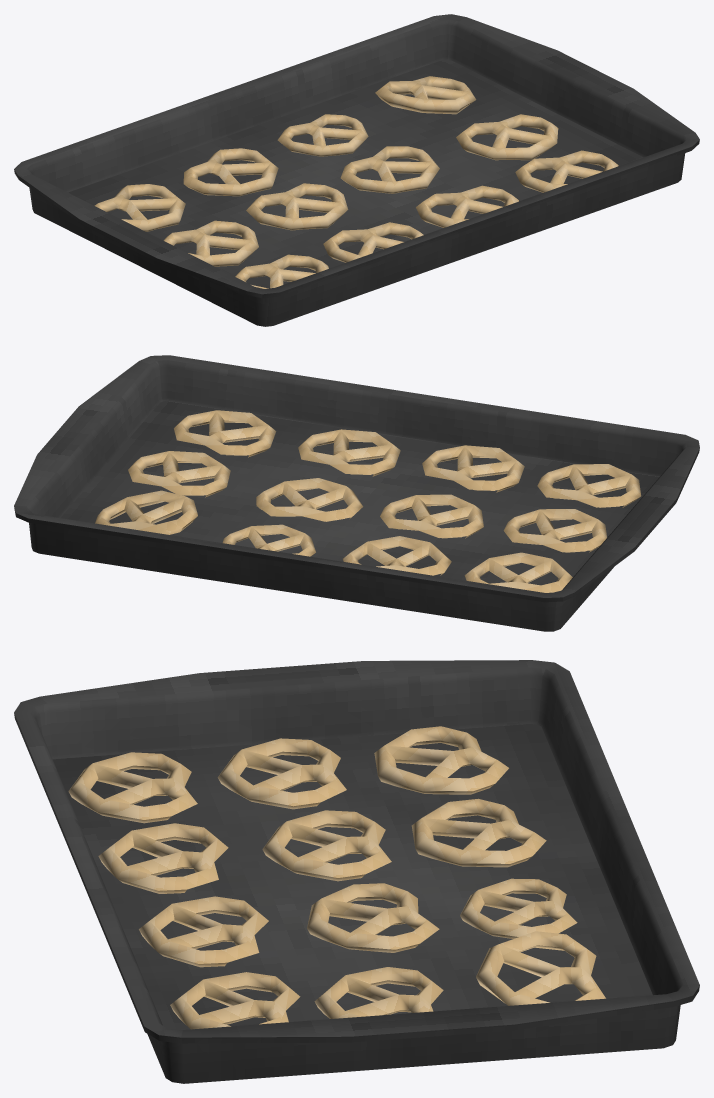
File: BakingTrayPretzel.fbx
3 renders of one model, top to bottom at view 1: azimuth 30°, elevation 25°; view 2: azimuth 150°, elevation 25°; view 3: azimuth 270°, elevation 25°, orthographic. The views are drawn at different scales.
Visible parts, largest first — view 1: TrayCremePretzel; view 2: TrayCremePretzel; view 3: TrayCremePretzel.
Boxes of the visible parts, x1,y1,x2,y2 form: TrayCremePretzel: (14,14,699,326); TrayCremePretzel: (14,355,699,631); TrayCremePretzel: (14,660,699,1083).
Size of the model in its own units: 105 by 7.31 by 80.46.
